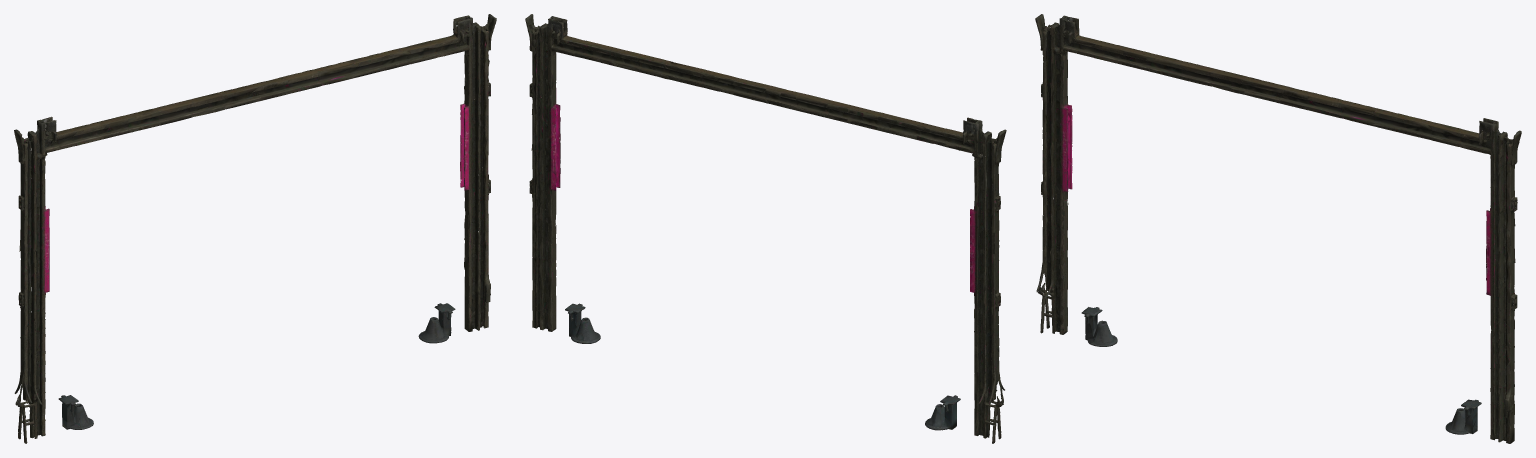
Rendered from garage.glb.
3 renders of one model, left to right at view 1: azimuth 30°, elevation 25°; view 2: azimuth 150°, elevation 25°; view 3: azimuth 330°, elevation 25°, orthographic.
Parts seen in each view (by area): view 1: Mesh_0; view 2: Mesh_0; view 3: Mesh_0.
Part boxes in pixels (left/top/right/bottom): Mesh_0: left=14, top=14, right=496, bottom=443; Mesh_0: left=525, top=14, right=1006, bottom=443; Mesh_0: left=1035, top=14, right=1521, bottom=443.
Size of the model in its own units: 1.9 by 1.2 by 0.1272.
Materials: 1 (1 with a texture image).
